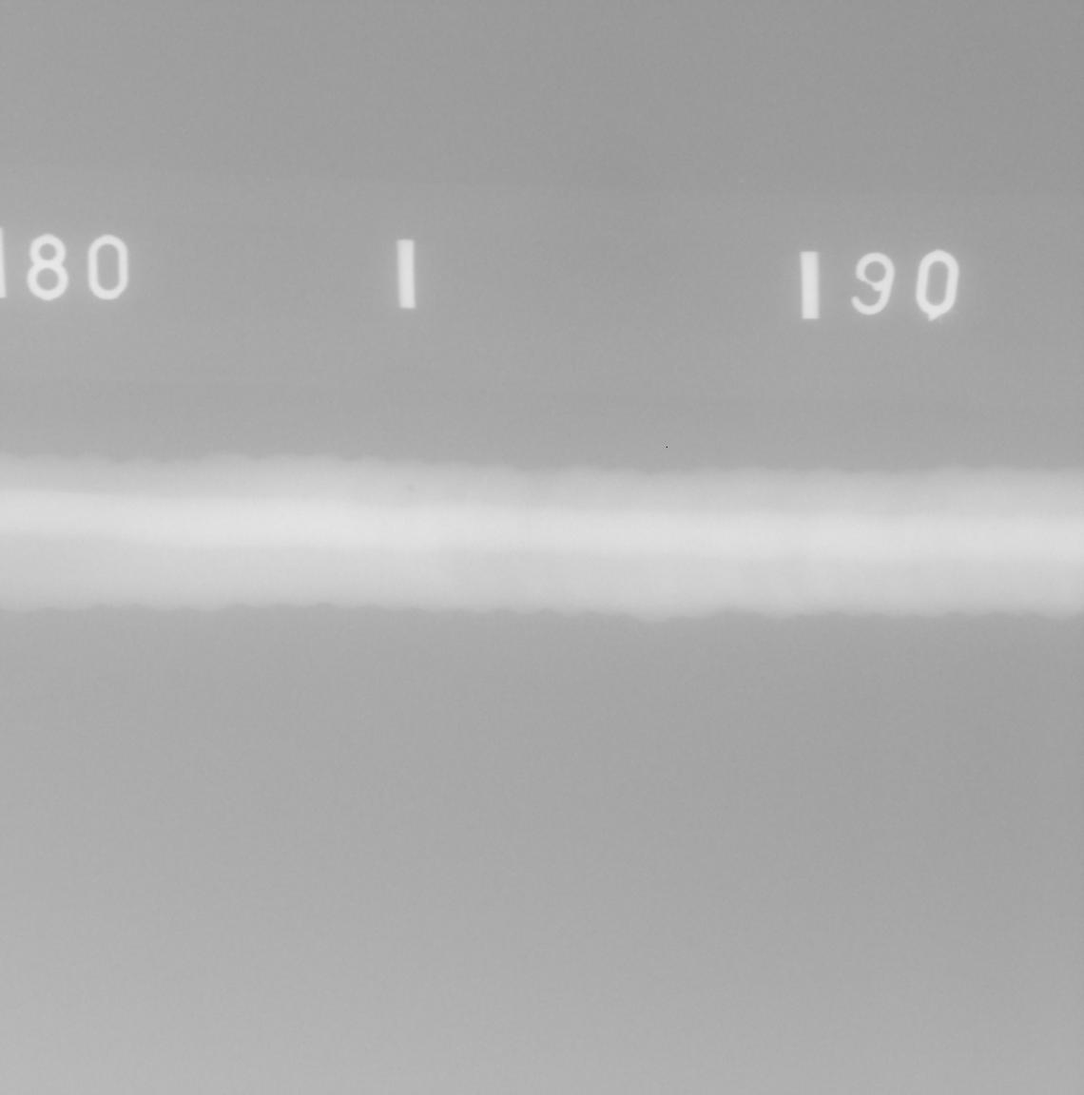Pore/Porosity: (407, 484, 415, 494)
